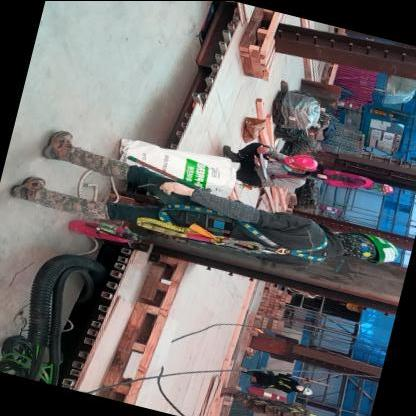Helmet: (353, 226, 405, 272)
safety-shoe: (32, 118, 76, 167), (15, 169, 52, 211)
